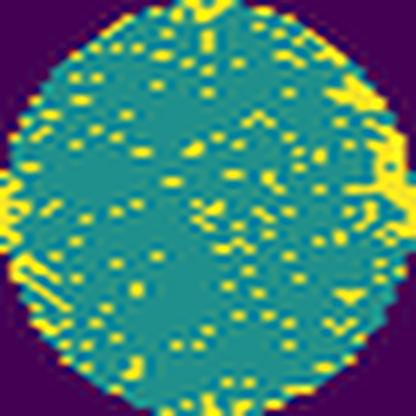Edge-Loc: (339, 118, 415, 248), (0, 168, 35, 255), (322, 76, 390, 113), (169, 0, 236, 21)
